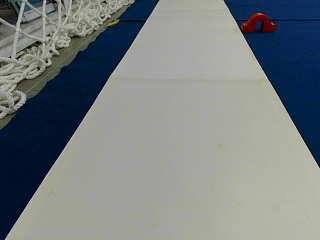bridge: (241, 12, 275, 31)
